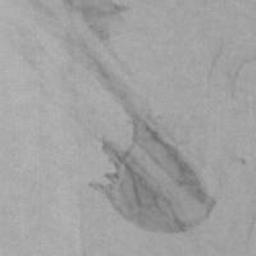Water spot: (8, 0, 218, 236)
